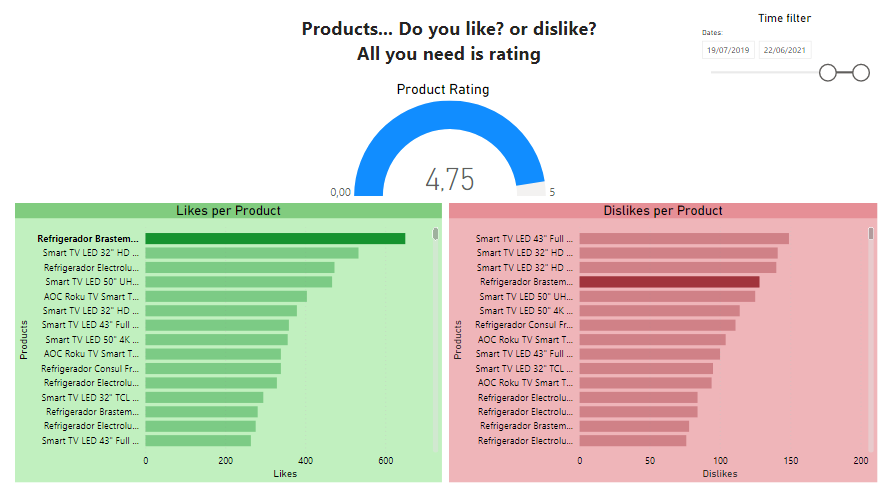

Layout of this report page (visuals, bound fields, positions):
{"tool":"powerbi","page":{"name":"Página 1","canvas":[1280,720],"ordinal":0},"visuals":[{"type":"slicer","title":"Filtro de Tempo","fields":{"Values":["reviews.date"]},"box":[1001.8,18.2,264.5,153.5],"z":1000},{"type":"clusteredBarChart","title":"Likes per Product","fields":{"Y":["Sum(reviews.likes)"],"Category":["reviews.product_name"]},"box":[650.6,305.6,615.7,402.9],"z":2002},{"type":"textbox","box":[410.5,18.2,478.9,92.7],"z":2003},{"type":"clusteredBarChart","title":"Dislikes per Product","fields":{"Y":["Sum(reviews.dislikes)"],"Category":["reviews.product_name"]},"box":[10.6,305.6,617.2,402.9],"z":2004},{"type":"gauge","title":"Product Rating","fields":{"Y":["Avg(reviews.rating)"],"MaxValue":["Max(reviews.rating)1"]},"box":[331.4,120.1,617.2,176.3],"z":2005}]}

Visuals, with their boxes in screenshot pixels (x1, y1, x2, y2), scaled from the page's 1280x720 canvas onto the 886x495 screenshot:
"Filtro de Tempo" slicer: x1=693 y1=13 x2=877 y2=118
"Likes per Product" clusteredBarChart: x1=450 y1=210 x2=877 y2=487
textbox: x1=284 y1=13 x2=616 y2=76
"Dislikes per Product" clusteredBarChart: x1=7 y1=210 x2=435 y2=487
"Product Rating" gauge: x1=229 y1=83 x2=657 y2=204
